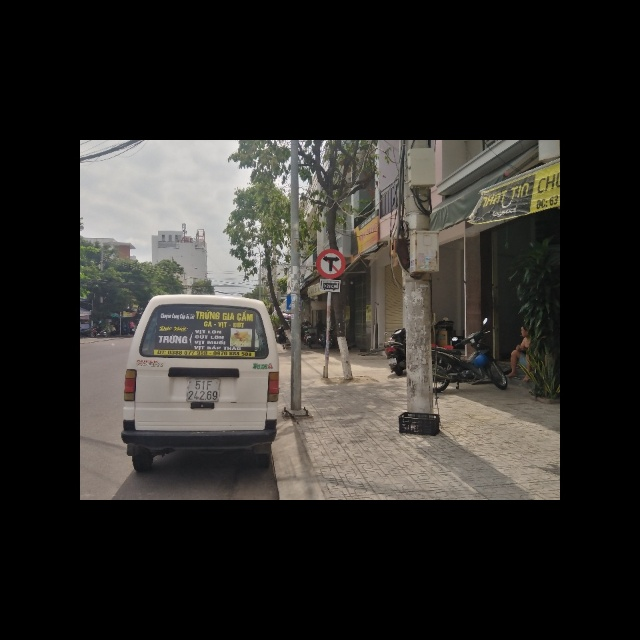Cấm rẽ trái và rẽ phải: (315, 248, 345, 279)
